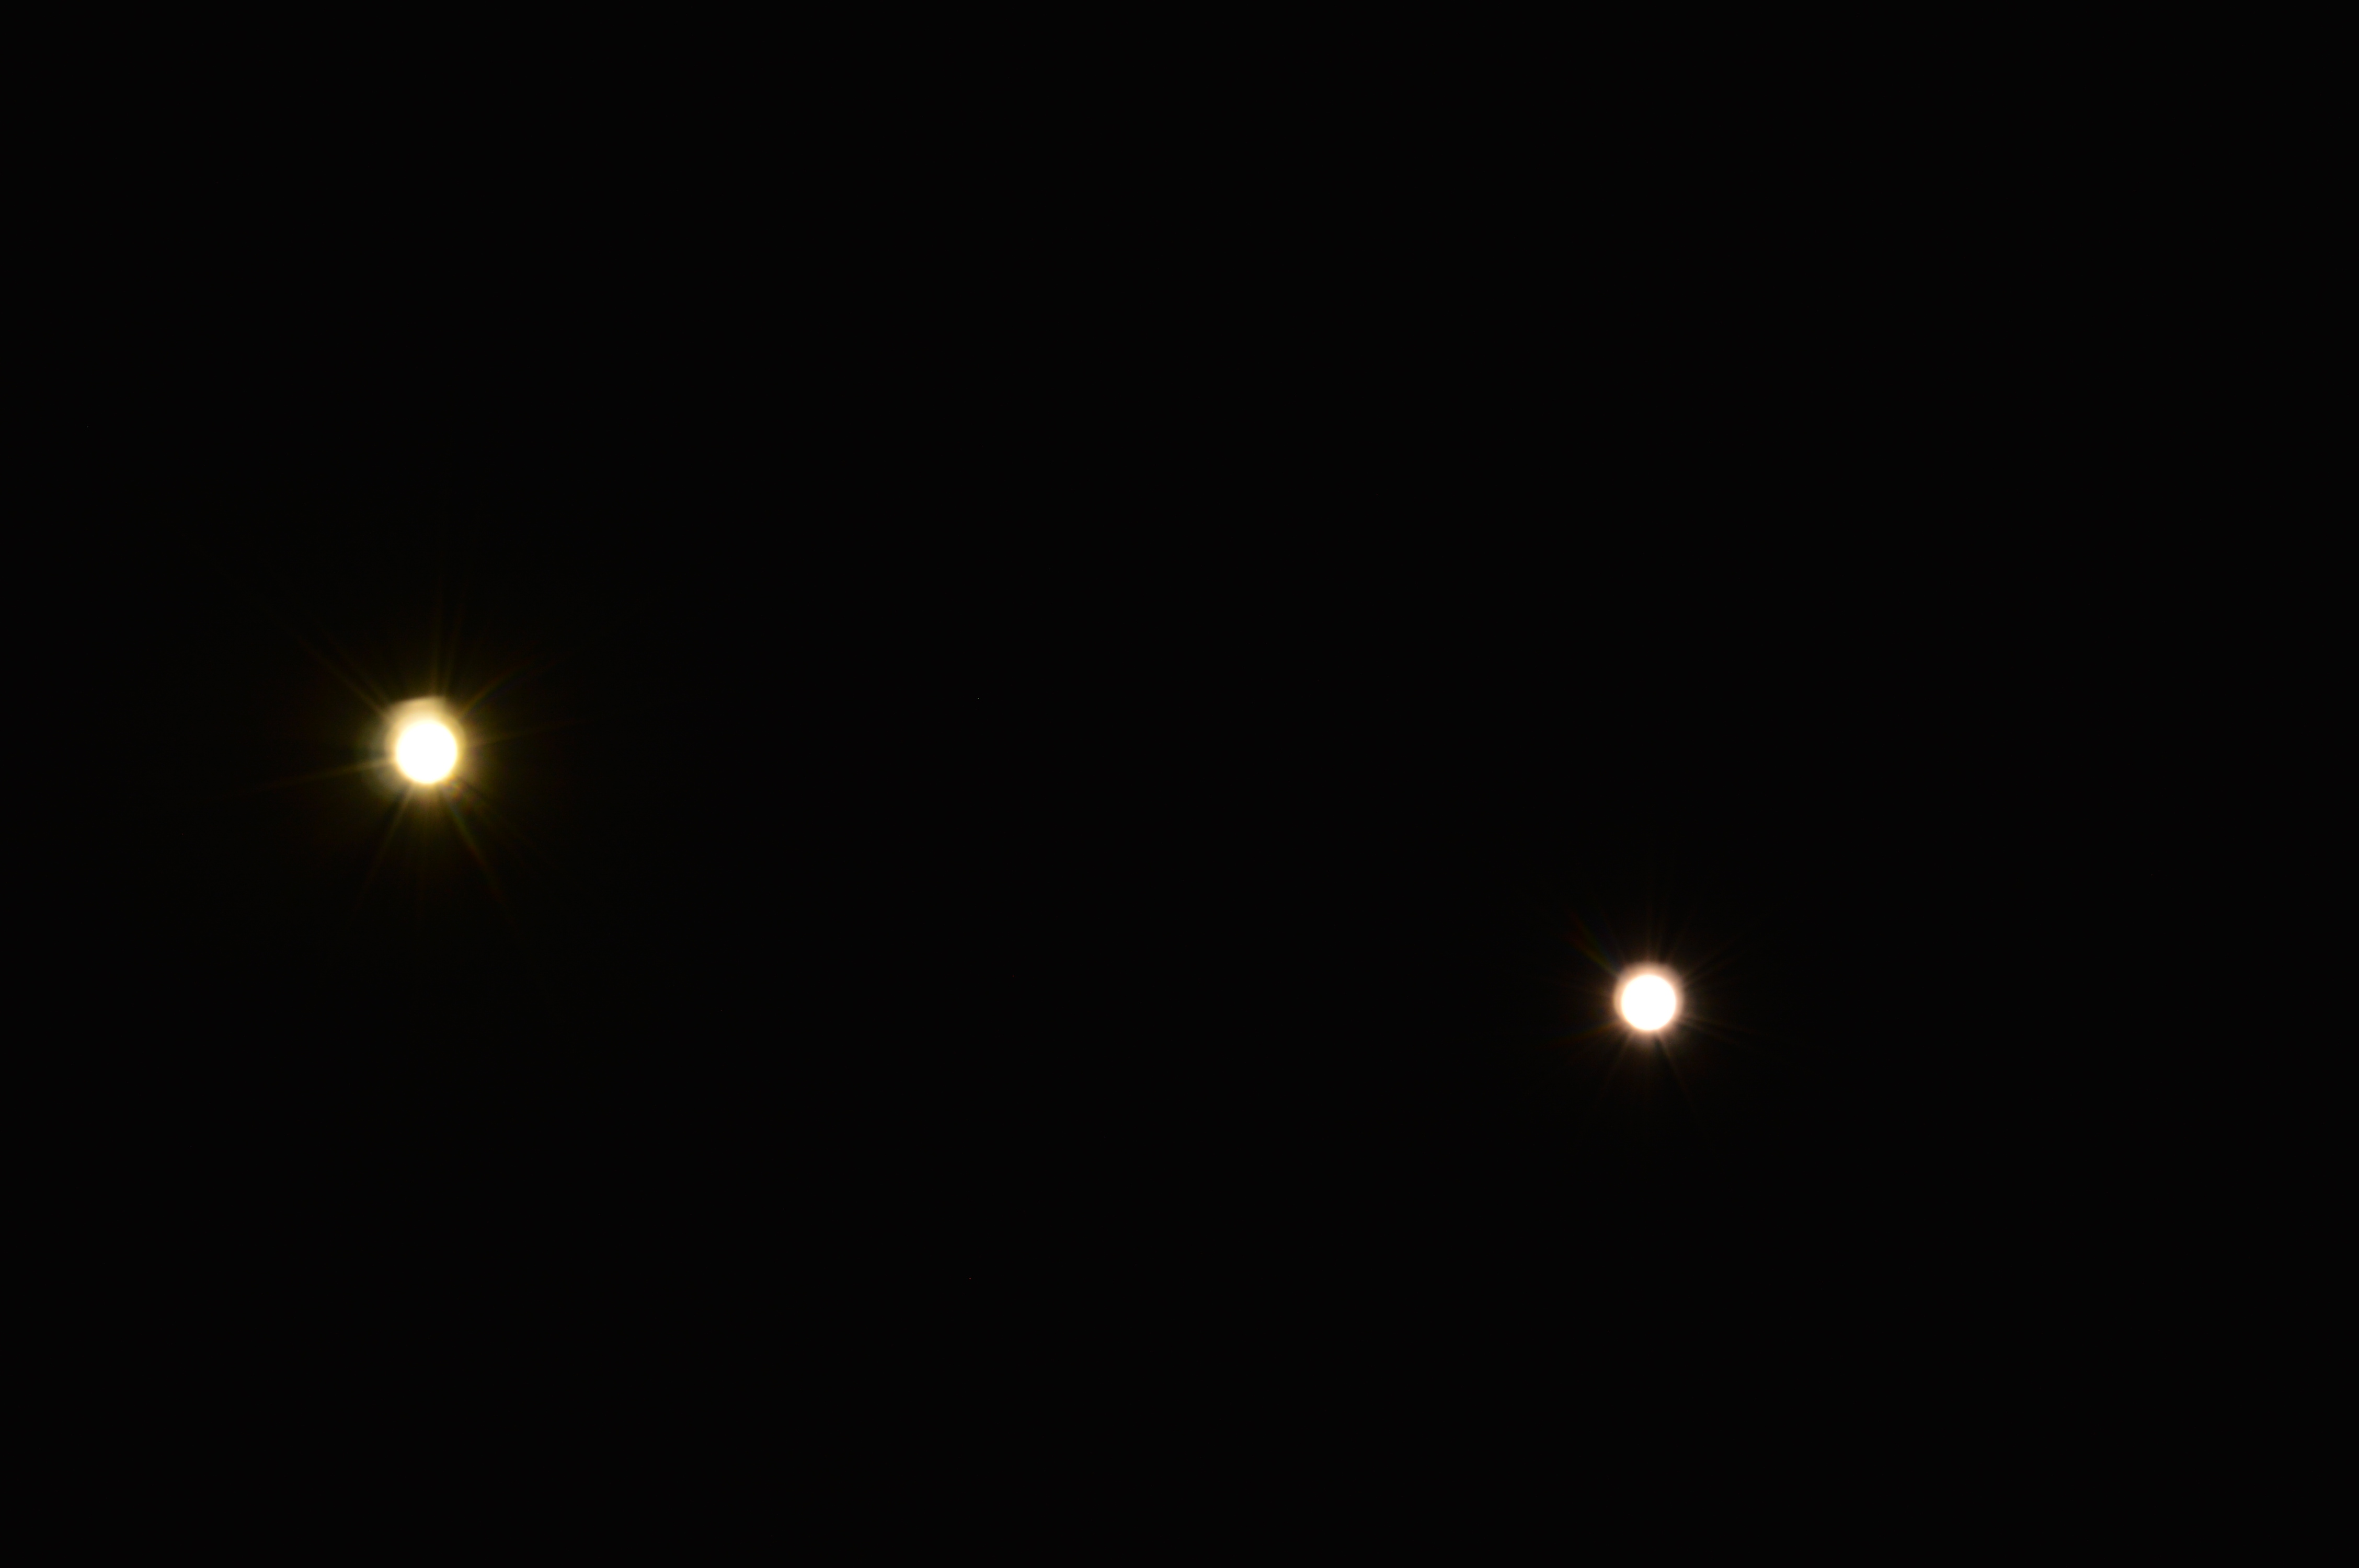Glare: (382, 700, 465, 786), (1613, 961, 1682, 1038)
